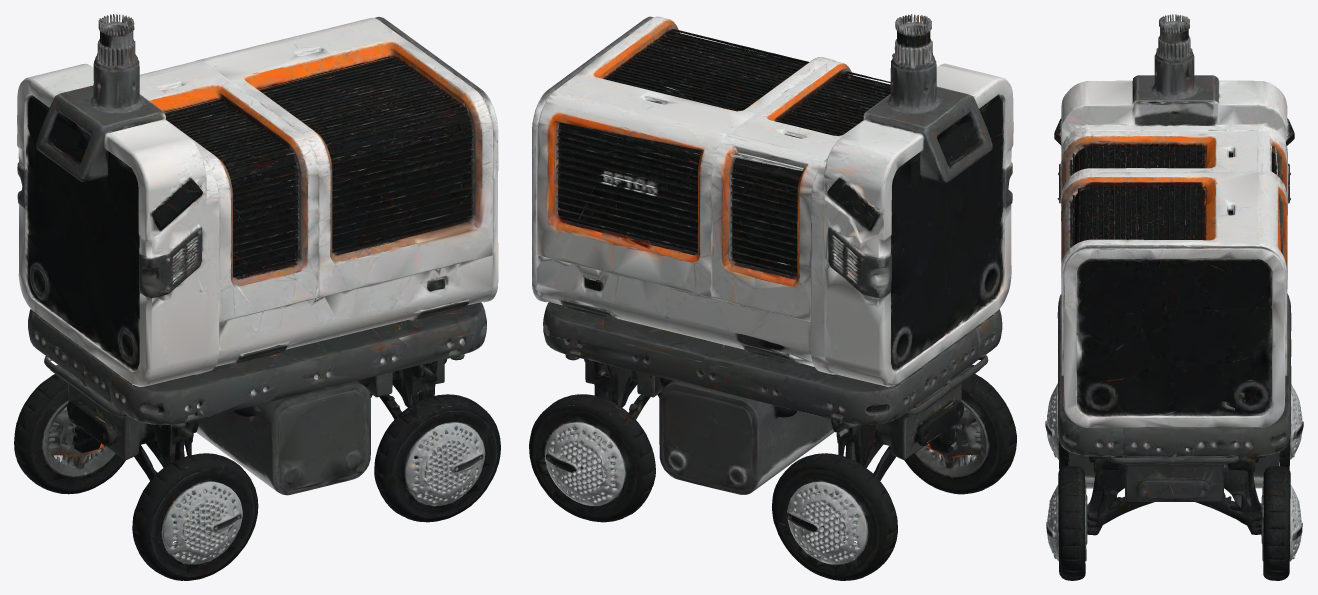
Rendered from carro.glb.
3 views of the same model, side by side, from view 1: azimuth 30°, elevation 25°; view 2: azimuth 150°, elevation 25°; view 3: azimuth 270°, elevation 25° (orthographic). The views are drawn at different scales.
Size of the model in its own units: 1.54 by 2 by 1.05.
1 material, 1 textured.
